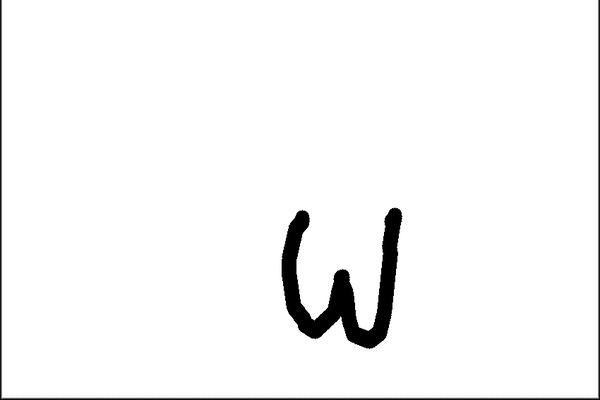w: (245, 189, 434, 351)
